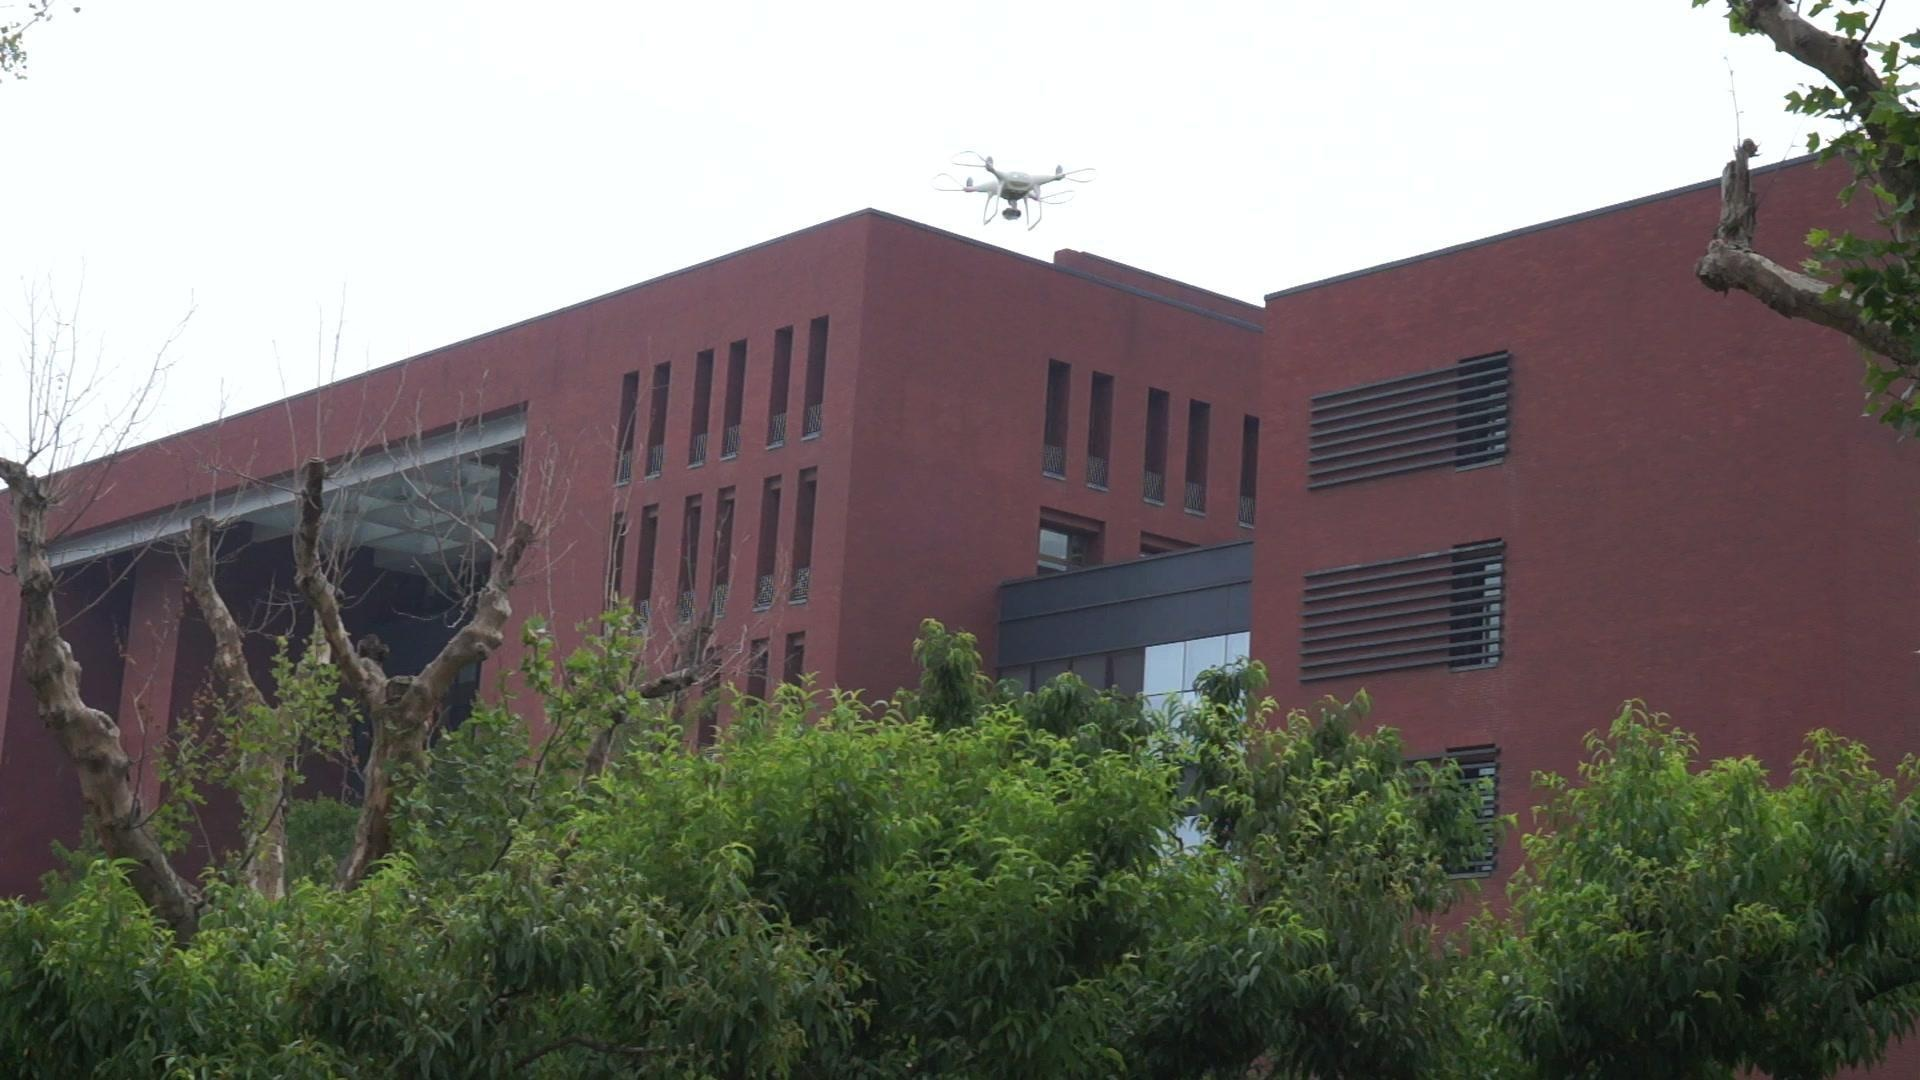UAV: (930, 152, 1098, 232)
